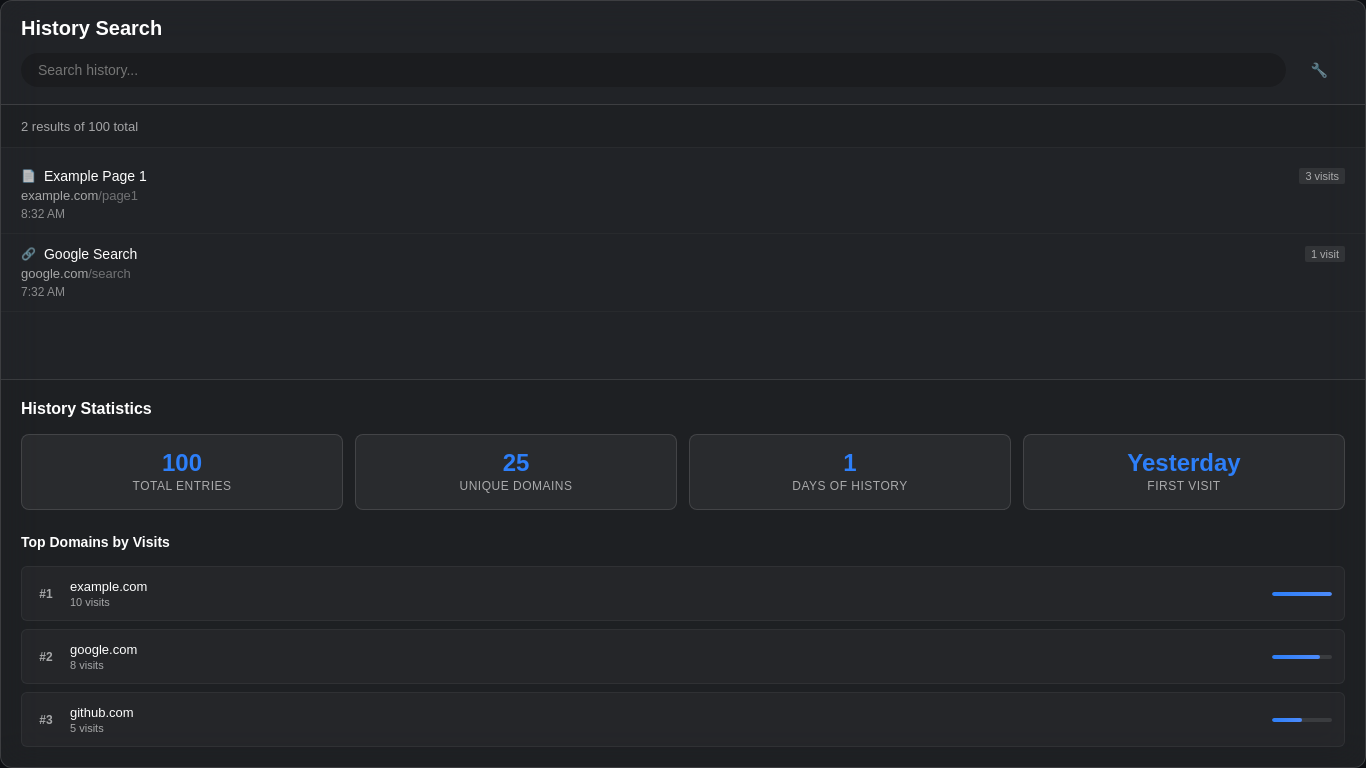
Test: HistorySearchPanel › should toggle filters when filter button is clicked
This screenshot has width=1366, height=768.
Click the button titled "Toggle filters" at point(1319, 70), box [1294,52,1345,88]
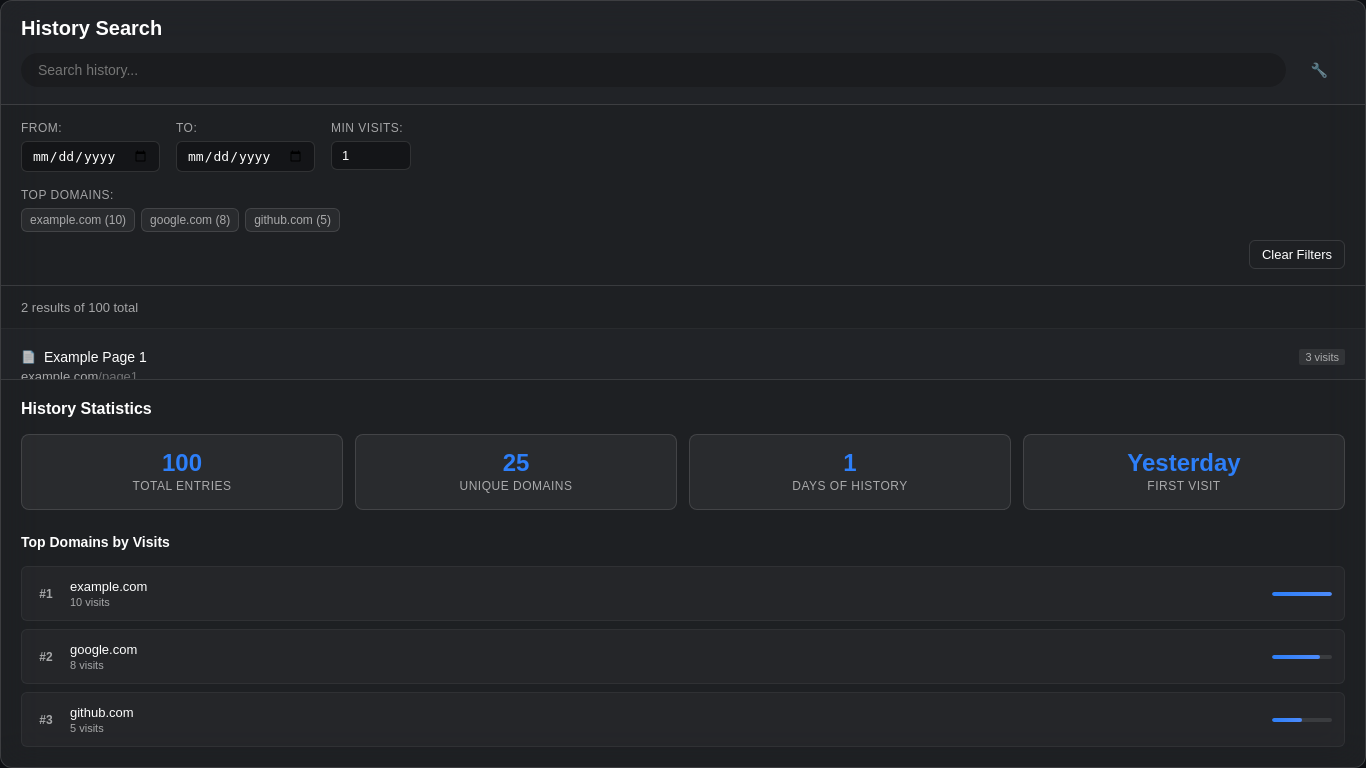
Expected: the text "From:" is shown, [21,121,62,135]
Expected: the text "To:" is shown, [176,121,197,135]
Expected: the text "Min visits:" is shown, [331,121,403,135]
